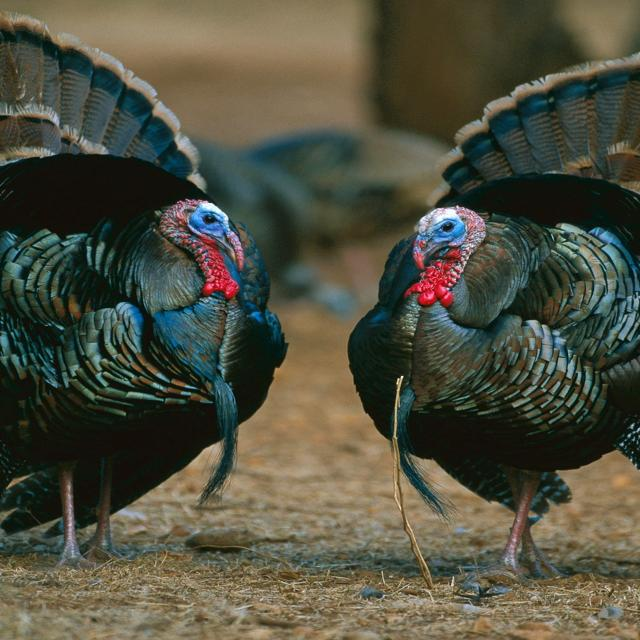turkey: (0, 13, 287, 563), (348, 54, 640, 575)
